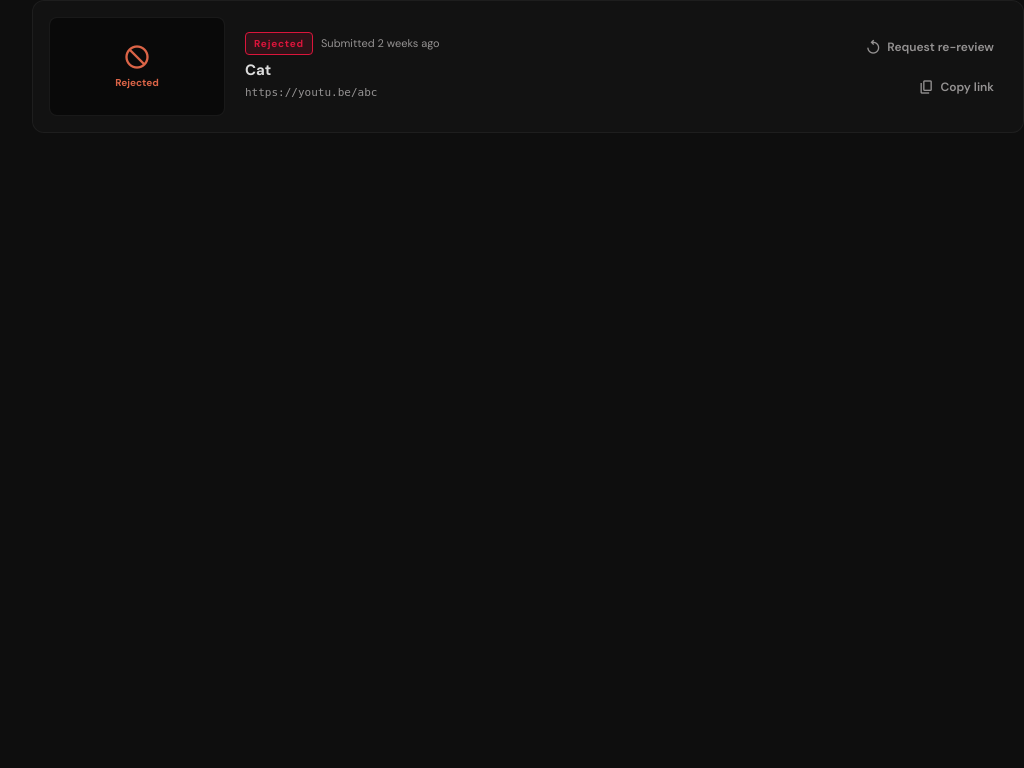
it: SuggestionCard re-review › falls back to the API message for unknown errors
This screenshot has width=1024, height=768.
Click the button "Request re-review" at (930, 46), box [852,30,1007,62]
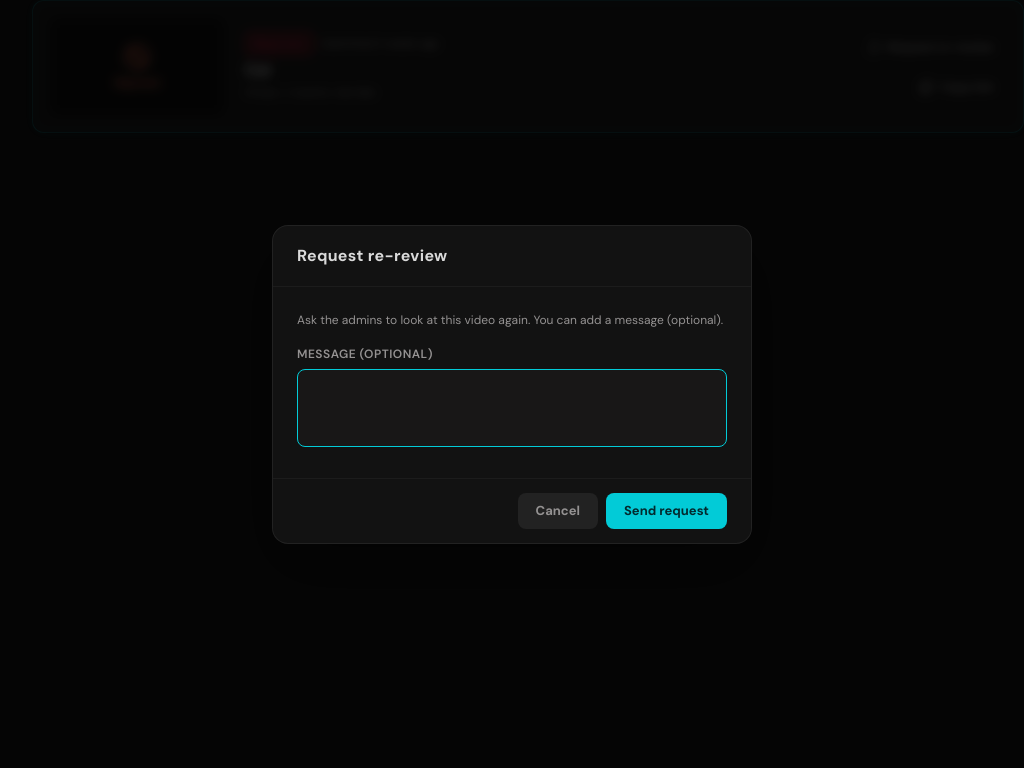
Click the button "Send request" at (666, 511), box [606,493,727,528]
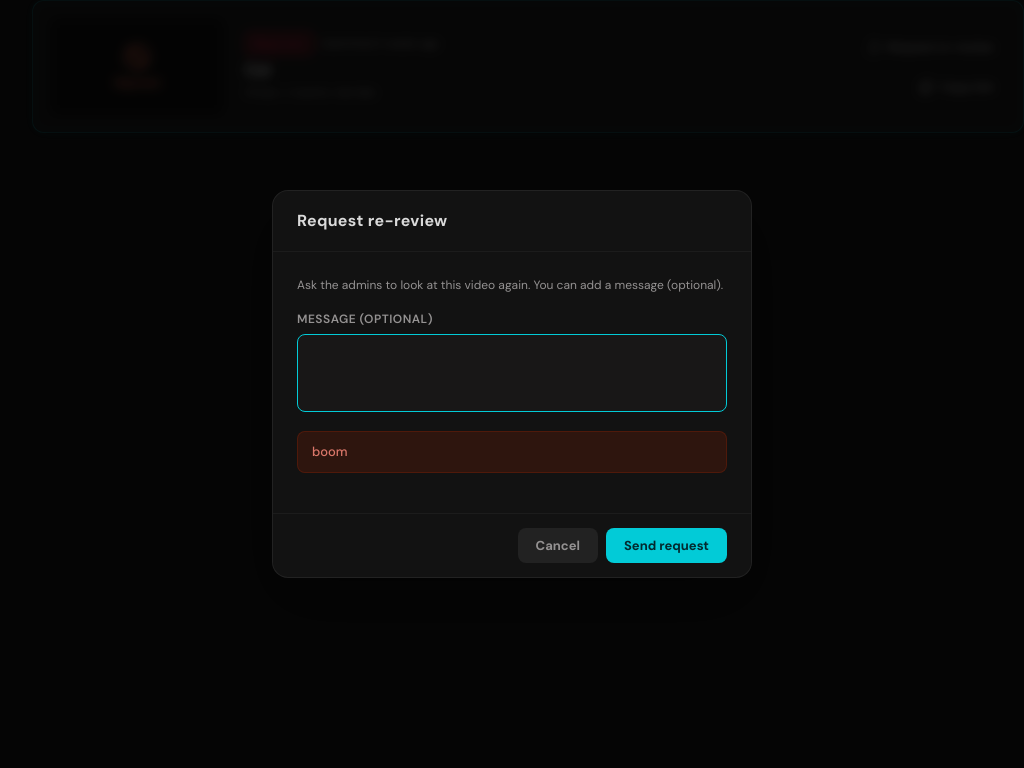
Expected: the text "boom" is shown, [297,431,727,473]
